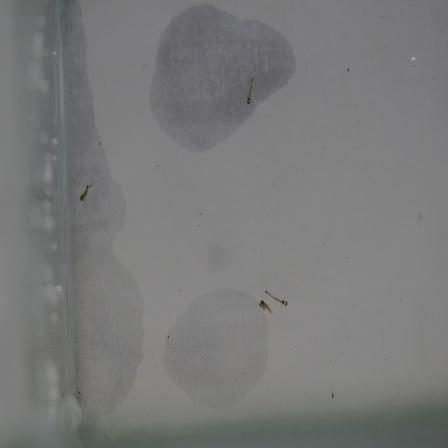Jentik-Nyamuk: (257, 284, 292, 318), (243, 76, 260, 109), (76, 181, 95, 207)
